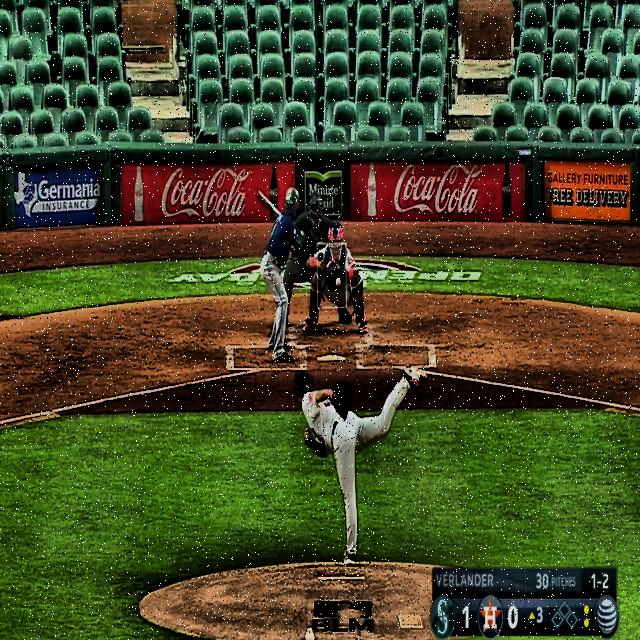baseball: (335, 277, 341, 287)
